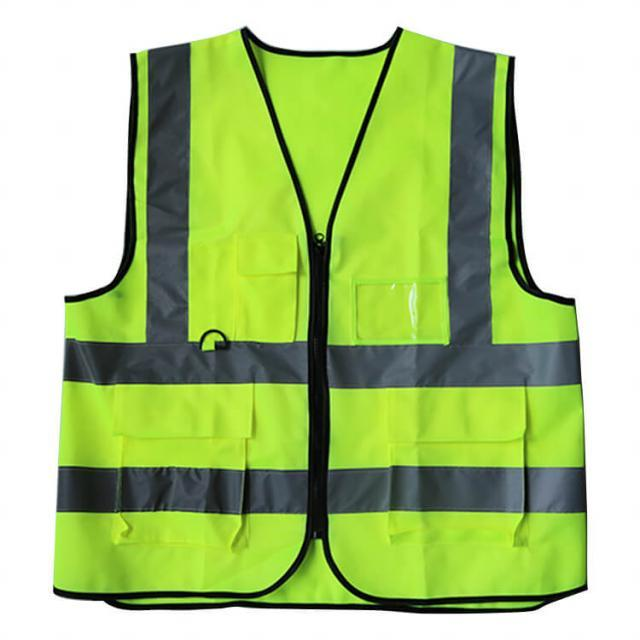construction-vest: (62, 26, 581, 612)
